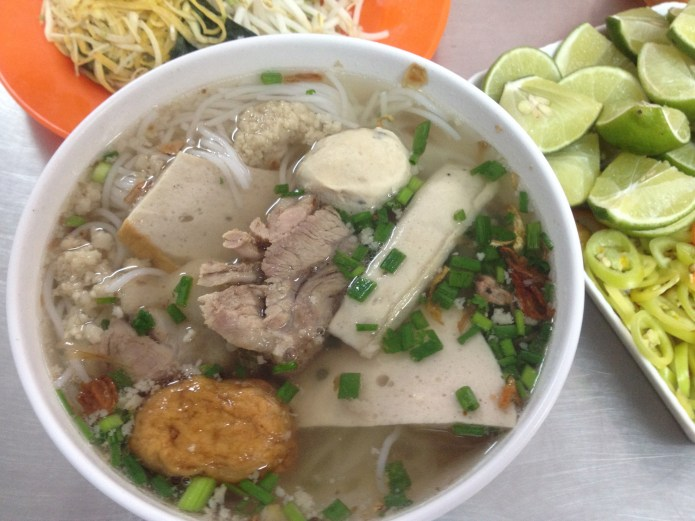chamoc: (295, 322, 506, 428), (138, 152, 250, 270), (301, 121, 413, 212)
pork: (202, 202, 344, 363)
